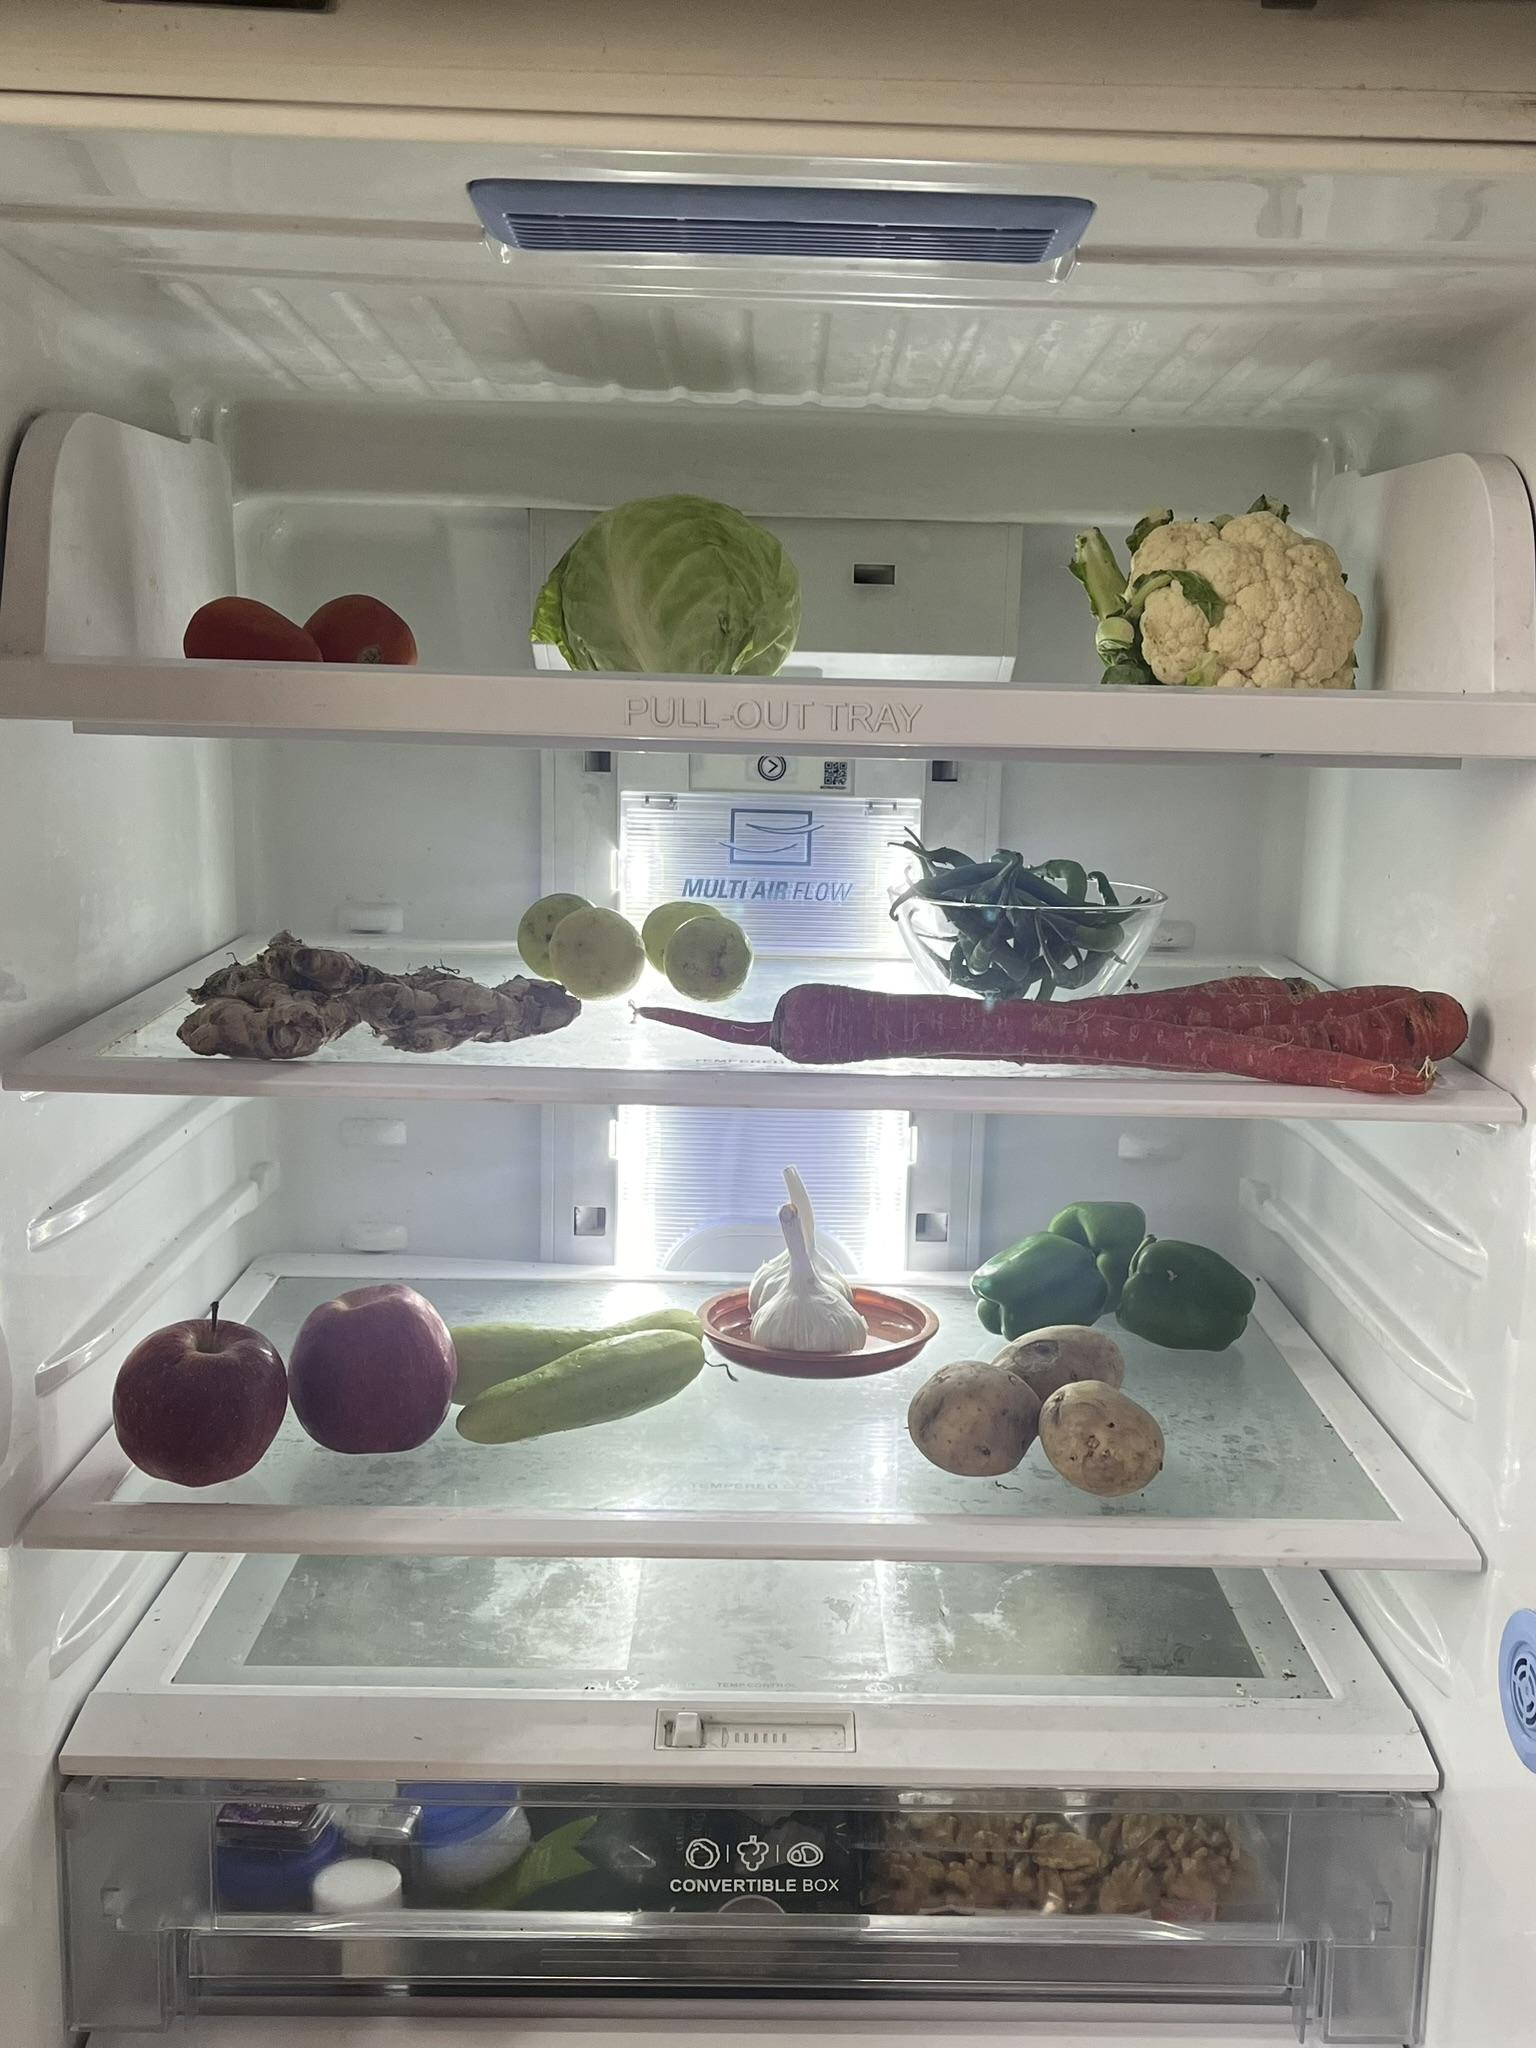apple: (110, 1287, 290, 1484), (284, 1280, 470, 1456)
cabbage: (529, 484, 800, 677)
capsicum: (963, 1190, 1263, 1353)
carrots: (641, 980, 1504, 1109)
cauliflower: (1066, 490, 1376, 687)
chillies: (883, 827, 1176, 987)
cucumber: (444, 1309, 726, 1450)
garlic: (723, 1156, 887, 1353)
ginger: (176, 934, 587, 1059)
lemon: (510, 884, 753, 997)
potato: (910, 1324, 1176, 1493)
tomato: (194, 593, 419, 669)
